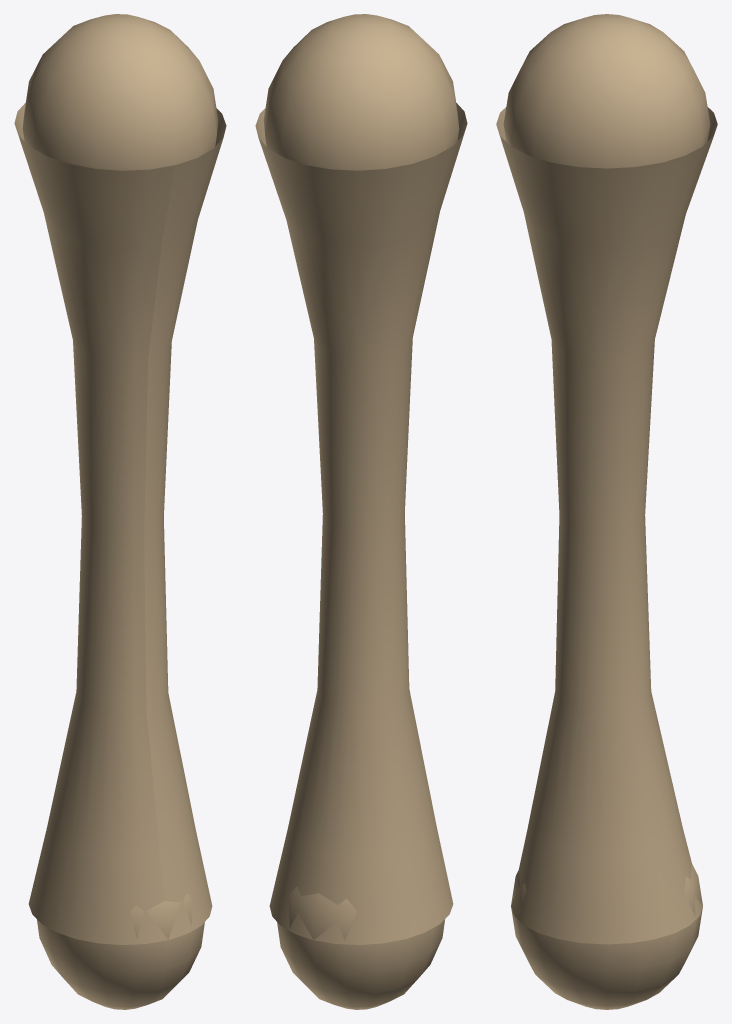
File: left_metacarpal_5.glb
3 renders of one model, left to right at view 1: azimuth 30°, elevation 25°; view 2: azimuth 150°, elevation 25°; view 3: azimuth 270°, elevation 25°, orthographic.
Parts seen in each view (by area): view 1: left_metacarpal_5:diaphysis, left_metacarpal_5:proximal-envelope, left_metacarpal_5:distal-envelope; view 2: left_metacarpal_5:diaphysis, left_metacarpal_5:proximal-envelope, left_metacarpal_5:distal-envelope; view 3: left_metacarpal_5:diaphysis, left_metacarpal_5:proximal-envelope, left_metacarpal_5:distal-envelope.
Part boxes in pixels (x1,y1,x2,y2): left_metacarpal_5:diaphysis: [14, 103, 226, 944]; left_metacarpal_5:proximal-envelope: [22, 14, 218, 170]; left_metacarpal_5:distal-envelope: [37, 893, 204, 1009]; left_metacarpal_5:diaphysis: [255, 103, 467, 944]; left_metacarpal_5:proximal-envelope: [263, 14, 459, 170]; left_metacarpal_5:distal-envelope: [277, 886, 444, 1009]; left_metacarpal_5:diaphysis: [496, 107, 717, 944]; left_metacarpal_5:proximal-envelope: [503, 14, 710, 168]; left_metacarpal_5:distal-envelope: [511, 864, 702, 1009].
Bounding box in the file's own units: 0.0799 × 0.4136 × 0.0846.
